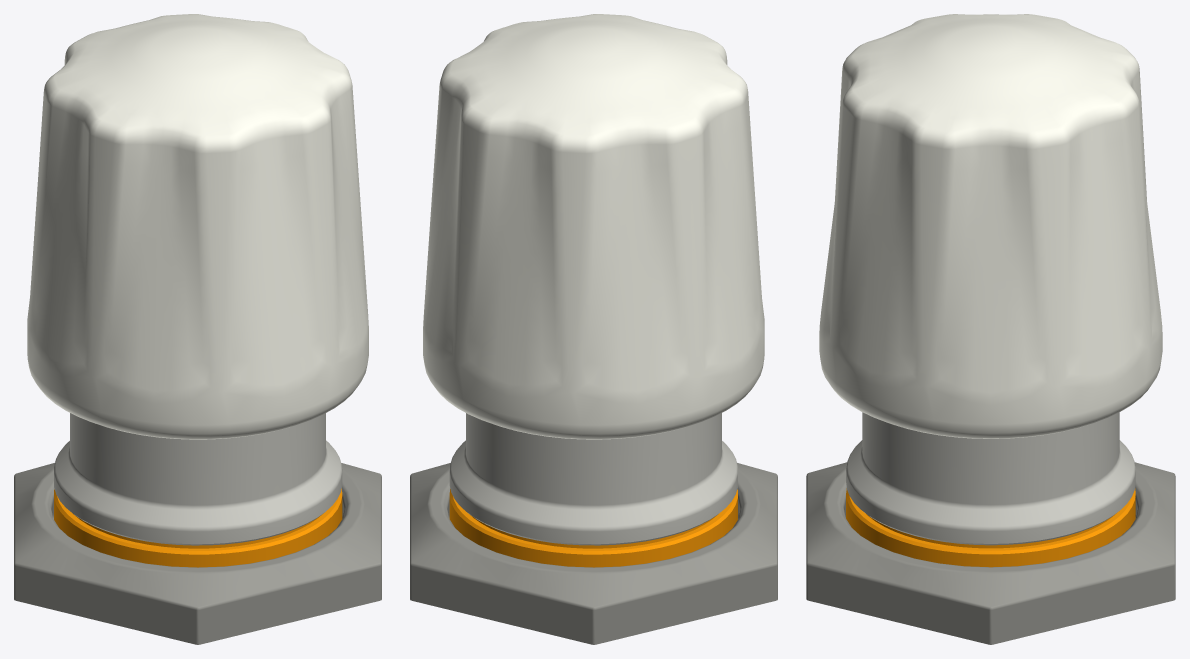
Rendered from Knob #14.fbx.
3 views of the same model, side by side, from view 1: azimuth 30°, elevation 25°; view 2: azimuth 150°, elevation 25°; view 3: azimuth 270°, elevation 25° (orthographic).
Parts seen in each view (by area): view 1: kitbash_34; view 2: kitbash_34; view 3: kitbash_34.
Part boxes in pixels (box(x1,y1,x2,y2)): kitbash_34: box(14, 14, 381, 644); kitbash_34: box(410, 14, 777, 644); kitbash_34: box(806, 14, 1175, 644).
Bounding box in the file's own units: 7.84 × 10.43 × 6.81.
